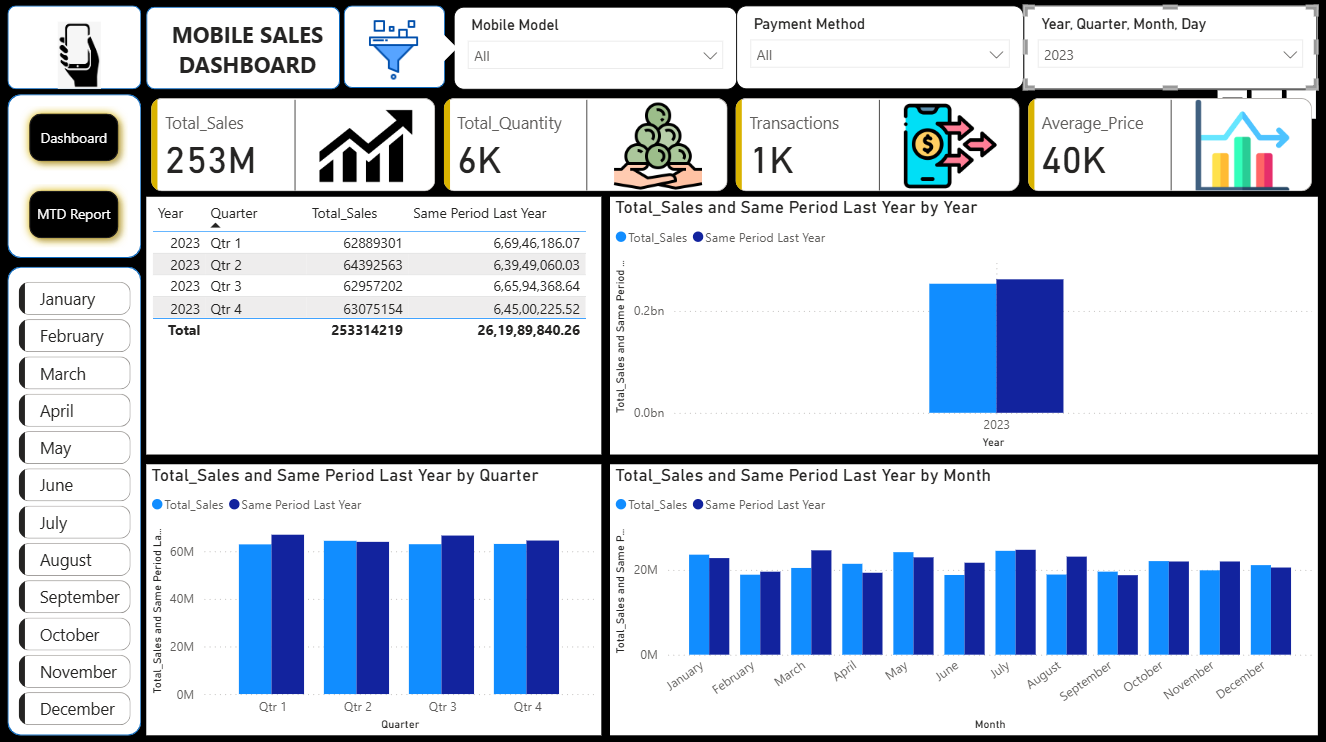

The page's visual inventory and layout, read from the dashboard file:
{"tool":"powerbi","page":{"name":"Same Period Last Year","canvas":[1280,720],"ordinal":2},"visuals":[{"type":"shape","box":[7.2,7.2,129.1,80.8],"z":0},{"type":"image","box":[35,18.1,83.2,74.8],"z":1000},{"type":"shape","box":[7.2,92.9,129.1,158],"z":2000},{"type":"slicer","fields":{"Values":["mobile_sales_data.Mobile Model"]},"box":[437.9,8.4,273.9,79.6],"z":4000},{"type":"slicer","fields":{"Values":["mobile_sales_data.Payment Method"]},"box":[710.6,7.2,277.5,80.8],"z":5000},{"type":"slicer","fields":{"Values":["custom_calander.Date.Variation.Date Hierarchy.Year","custom_calander.Date.Variation.Date Hierarchy.Quarter","custom_calander.Date.Variation.Date Hierarchy.Month","custom_calander.Date.Variation.Date Hierarchy.Day"]},"box":[988.1,7.2,283.5,80.8],"z":6000},{"type":"shape","box":[331.8,7.2,97.7,79.6],"z":7000},{"type":"image","box":[342.6,15.7,74.8,68.8],"z":8000},{"type":"shape","box":[405.4,30.2,36.2,36.2],"z":9000},{"type":"shape","box":[141.2,8.4,187,79.6],"z":10000},{"type":"textbox","box":[158,15.7,161.7,68.8],"z":11000},{"type":"shape","box":[7.2,259.4,129.1,452.4],"z":12000},{"type":"tableEx","fields":{"Values":["custom_calander.Date.Variation.Date Hierarchy.Year","custom_calander.Date.Variation.Date Hierarchy.Quarter","mobile_sales_data.Total_Sales","mobile_sales_data.Same Period Last Year"]},"box":[141.2,191.8,439.1,248.5],"z":13000},{"type":"advancedSlicerVisual","fields":{"Values":["custom_calander.Date.Variation.Date Hierarchy.Month"]},"box":[13.3,269,118.2,442.8],"z":14000},{"type":"clusteredColumnChart","fields":{"Category":["custom_calander.Date.Variation.Date Hierarchy.Year","custom_calander.Date.Variation.Date Hierarchy.Quarter"],"Y":["mobile_sales_data.Total_Sales","mobile_sales_data.Same Period Last Year"]},"box":[141.2,450,439.1,261.8],"z":15000},{"type":"clusteredColumnChart","fields":{"Y":["mobile_sales_data.Total_Sales","mobile_sales_data.Same Period Last Year"],"Category":["custom_calander.Date.Variation.Date Hierarchy.Year","custom_calander.Date.Variation.Date Hierarchy.Quarter","custom_calander.Date.Variation.Date Hierarchy.Month","custom_calander.Date.Variation.Date Hierarchy.Day"]},"box":[588.7,450,682.8,261.8],"z":16000},{"type":"clusteredColumnChart","fields":{"Category":["custom_calander.Date.Variation.Date Hierarchy.Year","custom_calander.Date.Variation.Date Hierarchy.Quarter"],"Y":["mobile_sales_data.Total_Sales","mobile_sales_data.Same Period Last Year"]},"box":[588.7,191.8,682.8,248.5],"z":17000},{"type":"pageNavigator","box":[19.3,102.5,105,139.9],"z":18000},{"type":"cardVisual","fields":{"Data":["mobile_sales_data.Total_Sales","mobile_sales_data.Total_Quantity","mobile_sales_data.Transactions","mobile_sales_data.Average_Price"]},"box":[141.2,91.7,1130.4,100.1],"z":18001}]}

Visuals, with their boxes in screenshot pixels (x1, y1, x2, y2), scaled from the page's 1280x720 canvas onto the 1326x742 screenshot:
shape: pyautogui.locateOnScreen(7, 7, 141, 91)
image: pyautogui.locateOnScreen(36, 19, 122, 96)
shape: pyautogui.locateOnScreen(7, 96, 141, 259)
slicer - mobile_sales_data.Mobile Model: pyautogui.locateOnScreen(454, 9, 737, 91)
slicer - mobile_sales_data.Payment Method: pyautogui.locateOnScreen(736, 7, 1024, 91)
slicer - custom_calander.Date.Variation.Date Hierarchy.Year x custom_calander.Date.Variation.Date Hierarchy.Quarter: pyautogui.locateOnScreen(1024, 7, 1317, 91)
shape: pyautogui.locateOnScreen(344, 7, 445, 89)
image: pyautogui.locateOnScreen(355, 16, 432, 87)
shape: pyautogui.locateOnScreen(420, 31, 457, 68)
shape: pyautogui.locateOnScreen(146, 9, 340, 91)
textbox: pyautogui.locateOnScreen(164, 16, 331, 87)
shape: pyautogui.locateOnScreen(7, 267, 141, 734)
tableEx - custom_calander.Date.Variation.Date Hierarchy.Year x custom_calander.Date.Variation.Date Hierarchy.Quarter: pyautogui.locateOnScreen(146, 198, 601, 454)
advancedSlicerVisual - custom_calander.Date.Variation.Date Hierarchy.Month: pyautogui.locateOnScreen(14, 277, 136, 734)
clusteredColumnChart - custom_calander.Date.Variation.Date Hierarchy.Year x custom_calander.Date.Variation.Date Hierarchy.Quarter: pyautogui.locateOnScreen(146, 464, 601, 734)
clusteredColumnChart - mobile_sales_data.Total_Sales x mobile_sales_data.Same Period Last Year: pyautogui.locateOnScreen(610, 464, 1317, 734)
clusteredColumnChart - custom_calander.Date.Variation.Date Hierarchy.Year x custom_calander.Date.Variation.Date Hierarchy.Quarter: pyautogui.locateOnScreen(610, 198, 1317, 454)
pageNavigator: pyautogui.locateOnScreen(20, 106, 129, 250)
cardVisual - mobile_sales_data.Total_Sales x mobile_sales_data.Total_Quantity: pyautogui.locateOnScreen(146, 95, 1317, 198)
